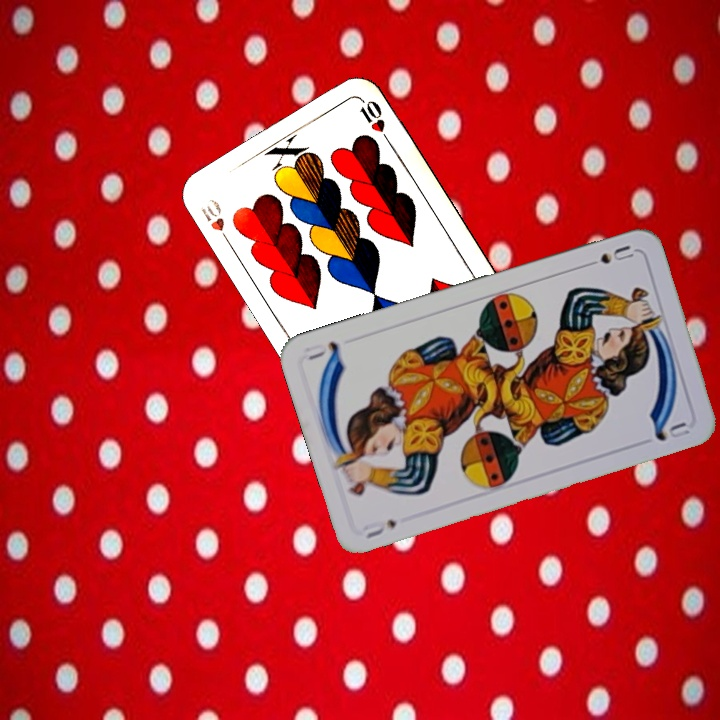H10: (197, 194, 235, 250)
SU: (579, 241, 636, 271), (359, 515, 400, 542)
